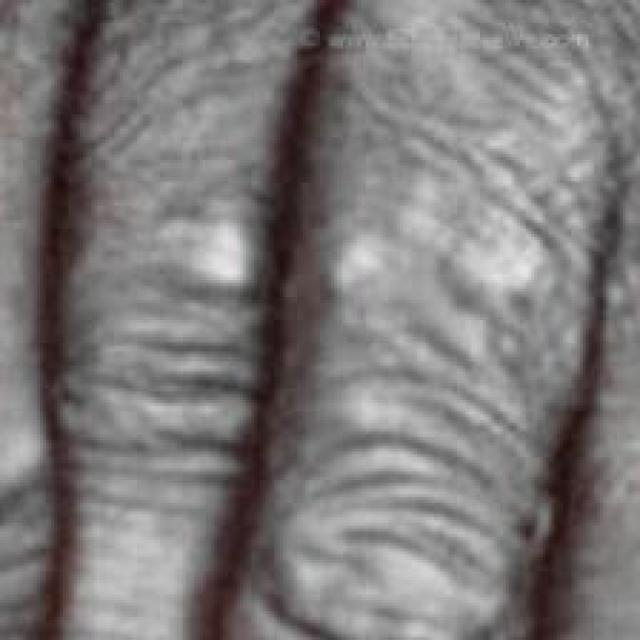monkeypox: (0, 0, 549, 640)
